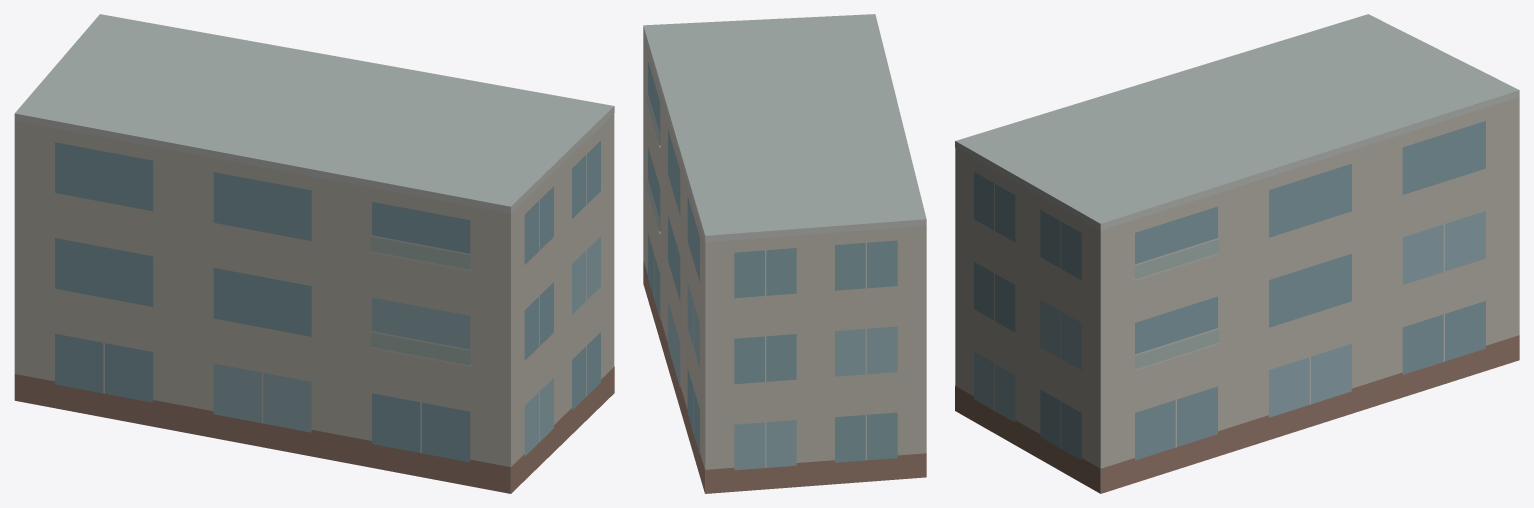
The model's file is survey-upis-32530853.glb.
The picture shows the model from 3 angles, left to right: view 1: azimuth 30°, elevation 25°; view 2: azimuth 150°, elevation 25°; view 3: azimuth 270°, elevation 25°; orthographic projection. The views are drawn at different scales.
Parts seen in each view (by area): view 1: survey-upis-32530853.tmp; view 2: survey-upis-32530853.tmp; view 3: survey-upis-32530853.tmp.
Boxes of the visible parts, bbox=[...] form: survey-upis-32530853.tmp: bbox=[14, 14, 614, 493]; survey-upis-32530853.tmp: bbox=[643, 14, 926, 493]; survey-upis-32530853.tmp: bbox=[955, 14, 1519, 493].
Size of the model in its own units: 16.35 by 9.8 by 18.58.
